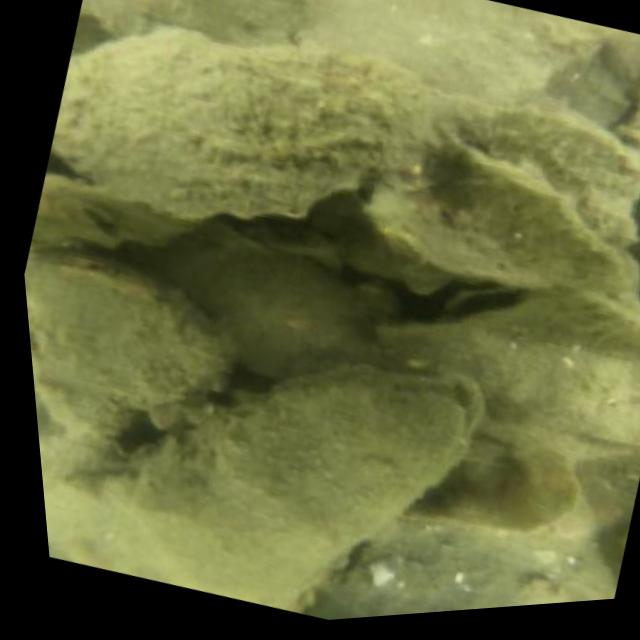Oyster-Closed: (53, 28, 446, 219), (28, 247, 234, 433), (554, 287, 640, 350)
Oyster-Indeterminate: (114, 369, 487, 612), (388, 292, 640, 462), (153, 234, 371, 377), (315, 521, 605, 618), (448, 100, 639, 237), (39, 431, 167, 578), (619, 92, 640, 164)
Oyster-Open: (430, 280, 543, 321)
